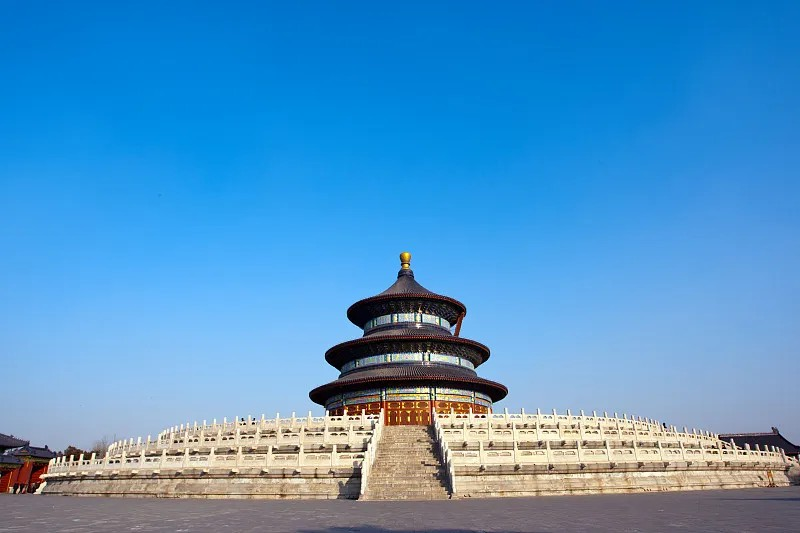Heaven: (309, 252, 509, 427)
